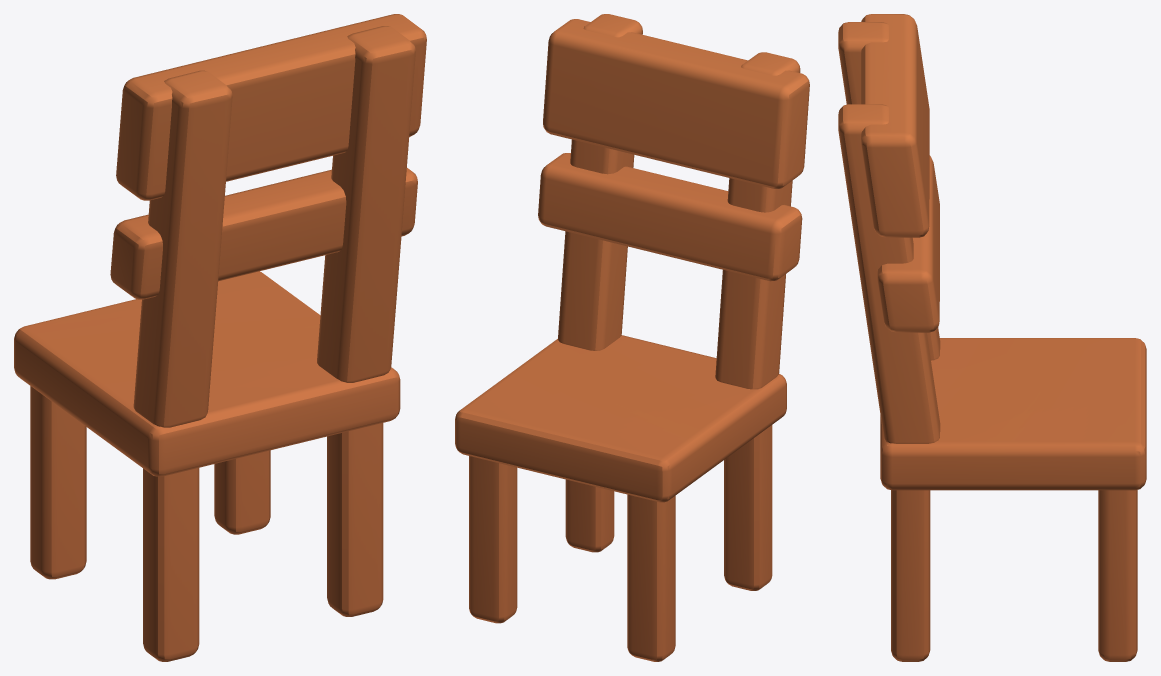
Rendered from chair.fbx.
3 renders of one model, left to right at view 1: azimuth 30°, elevation 25°; view 2: azimuth 150°, elevation 25°; view 3: azimuth 270°, elevation 25°, orthographic. The views are drawn at different scales.
Visible parts, largest first — view 1: chair; view 2: chair; view 3: chair.
Boxes of the visible parts, box(x1,y1,x2,y2) form: chair: box(14, 14, 426, 661); chair: box(455, 14, 809, 661); chair: box(838, 14, 1146, 661).
Size of the model in its own units: 5.32 by 10.62 by 5.47.
